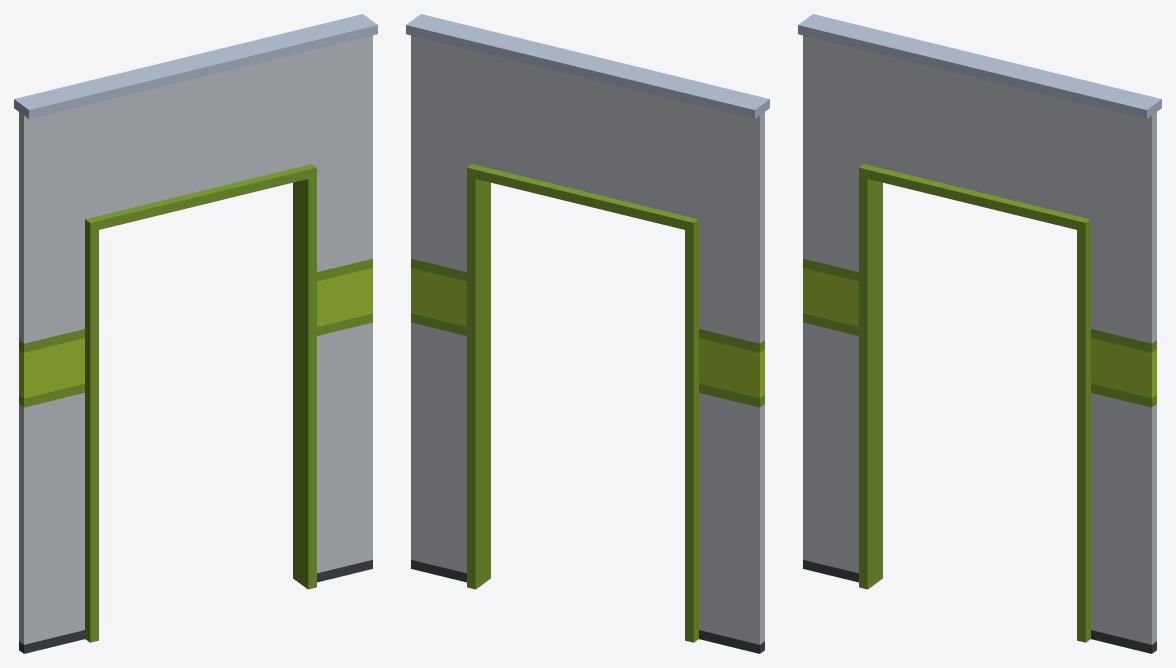
File: hallway-door-frame.obj
3 renders of one model, left to right at view 1: azimuth 30°, elevation 25°; view 2: azimuth 150°, elevation 25°; view 3: azimuth 330°, elevation 25°, orthographic.
Size of the model in its own units: 4 by 6 by 0.3.
Materials: 1 (1 with a texture image).
